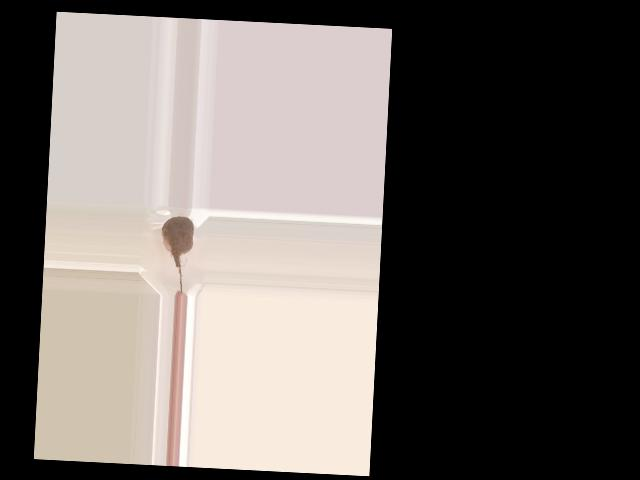beet: (158, 215, 194, 293)
